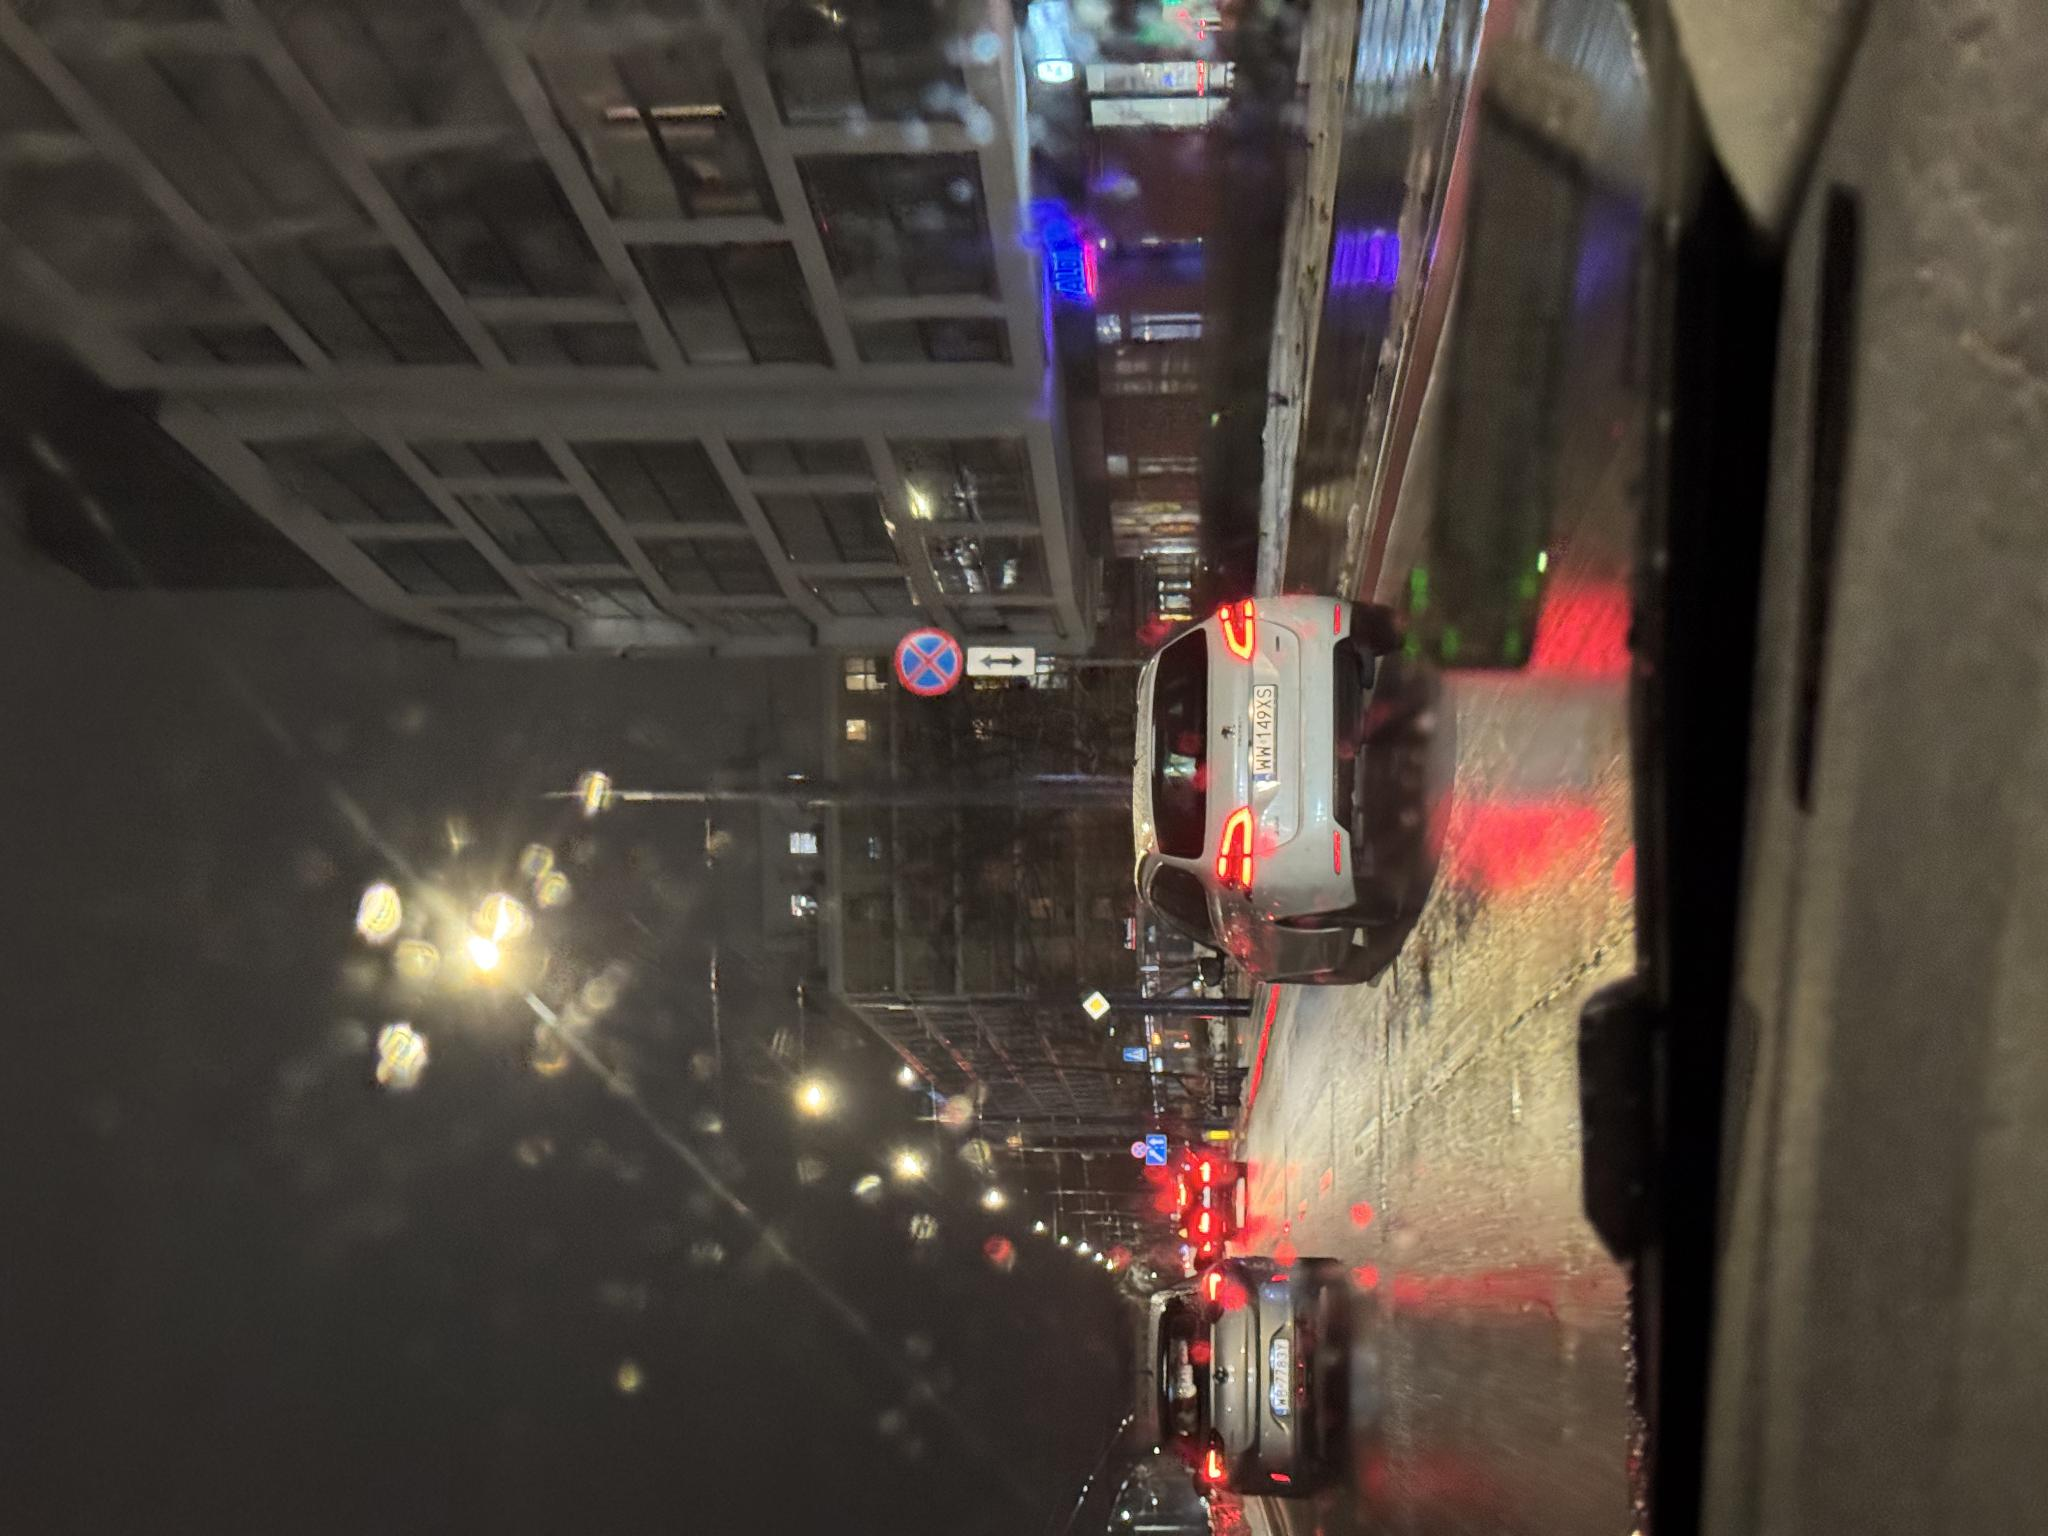information: (516, 1083, 545, 1110), (474, 1125, 490, 1147)
other: (861, 966, 890, 1034), (373, 1147, 402, 1168)
prohibitory: (837, 894, 908, 965), (377, 1131, 395, 1147)
